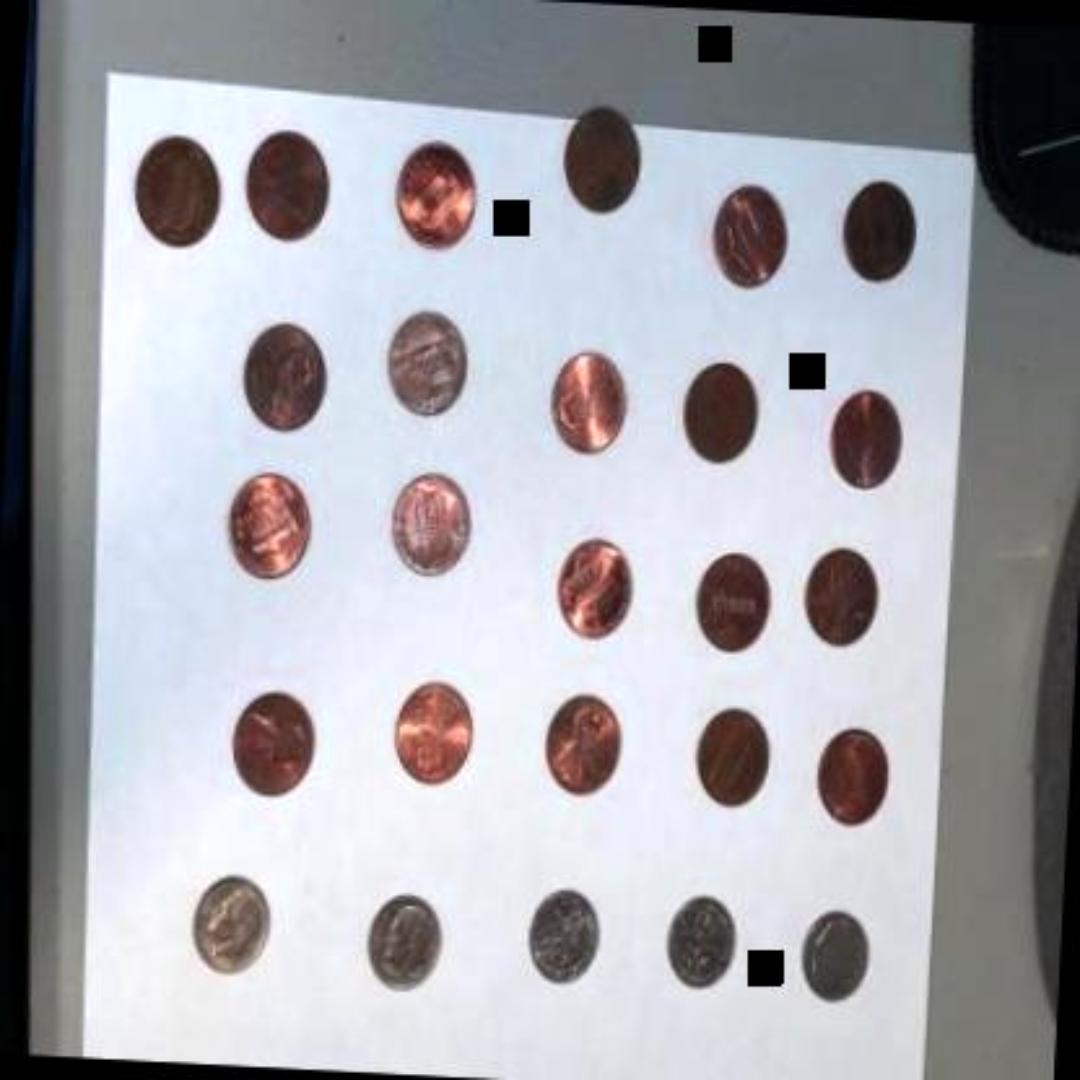Dime: (177, 868, 275, 970), (654, 886, 742, 988), (515, 880, 603, 982), (360, 886, 444, 988), (796, 906, 870, 996)
Penny: (126, 128, 230, 254), (237, 113, 335, 242), (538, 332, 631, 458), (379, 300, 472, 422), (236, 314, 329, 433), (554, 92, 642, 216), (384, 135, 478, 251), (219, 466, 312, 582), (380, 466, 474, 580), (222, 686, 320, 794), (684, 540, 772, 660), (795, 534, 883, 652), (384, 679, 472, 793), (540, 686, 628, 798), (702, 176, 786, 292), (676, 351, 760, 467), (687, 700, 775, 810), (836, 169, 920, 283), (808, 720, 896, 828), (554, 528, 636, 638), (824, 387, 901, 493)
